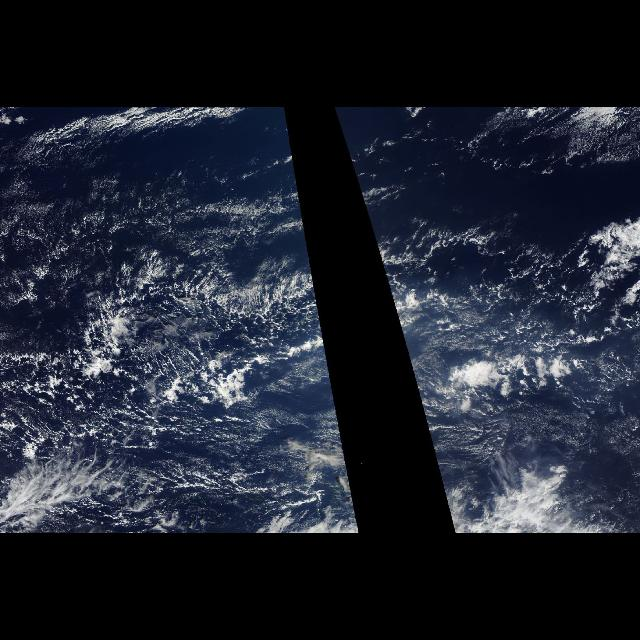Gravel: (2, 196, 344, 528), (384, 219, 640, 456)
Sugar: (1, 109, 310, 347), (348, 108, 640, 225)
